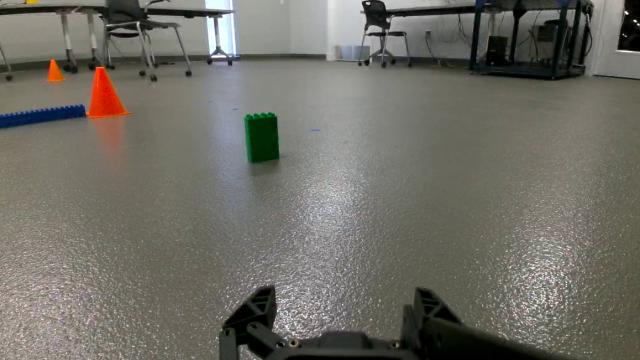lego: (232, 106, 304, 177)
